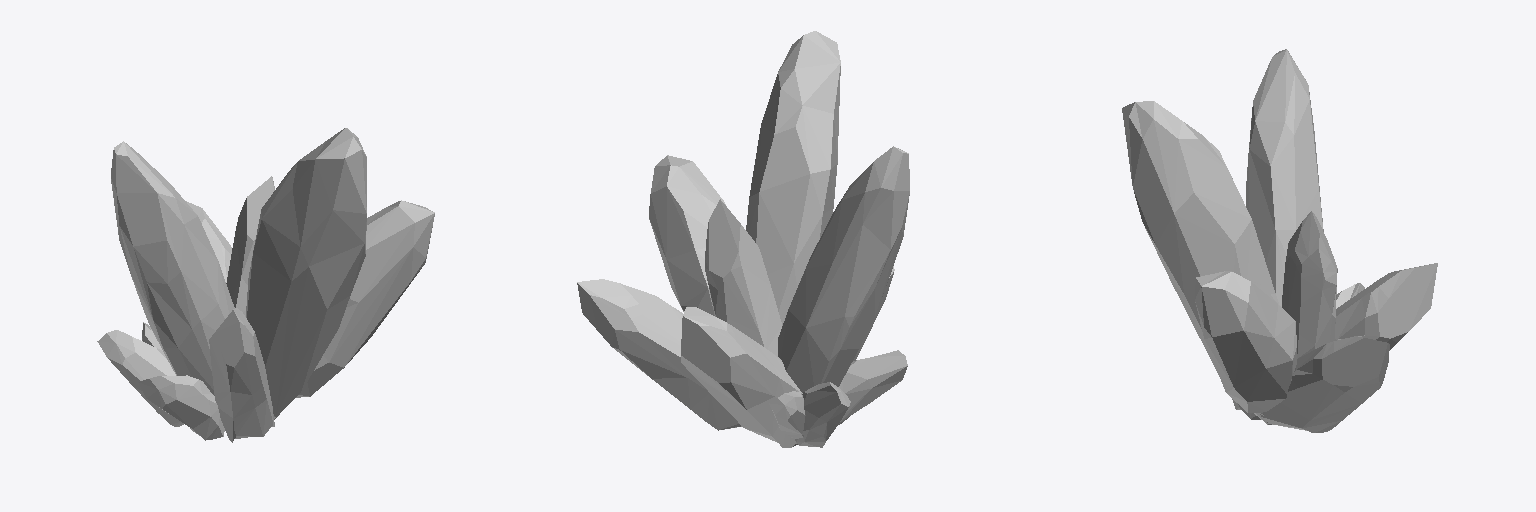
The model's file is Gem.obj.
3 renders of one model, left to right at view 1: azimuth 30°, elevation 25°; view 2: azimuth 150°, elevation 25°; view 3: azimuth 270°, elevation 25°, orthographic.
Visible parts, largest first — view 1: gem004_Material_#1_0; view 2: gem004_Material_#1_0; view 3: gem004_Material_#1_0.
Boxes of the visible parts, x1=… form: gem004_Material_#1_0: x1=97, y1=128, x2=434, y2=442; gem004_Material_#1_0: x1=577, y1=31, x2=909, y2=447; gem004_Material_#1_0: x1=1122, y1=49, x2=1437, y2=432.
Size of the model in its own units: 5.78 by 6.6 by 5.62.